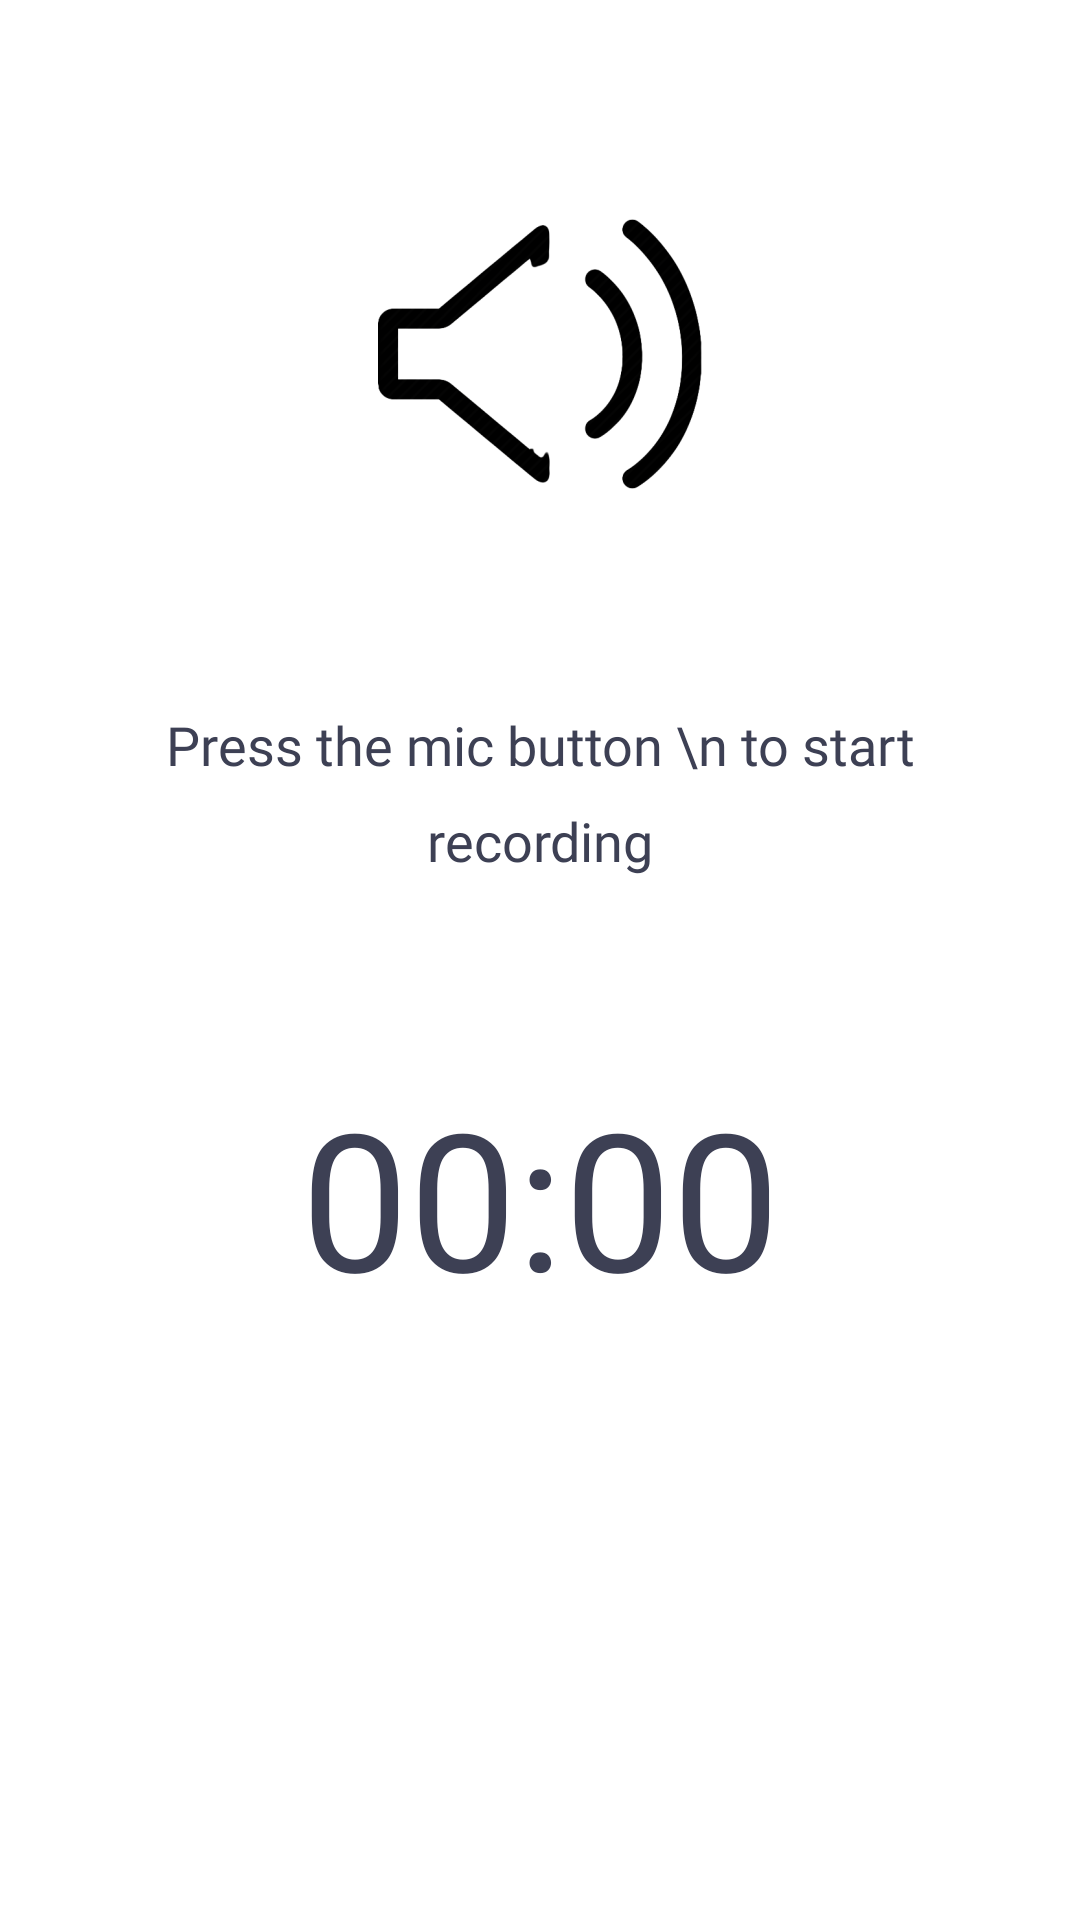

Icon click points for this 1080*1920 phone screenshot, format (x,y):
sonido: (540,354)
